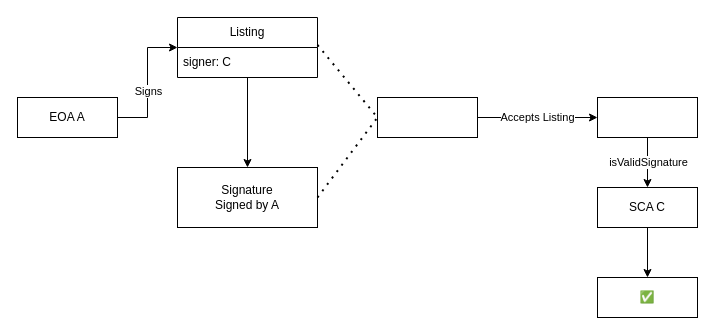
This 715x335 diagram has some shape labels left out. The centre of each missing label's shape, as x and y in pixels:
Account B: pixel 427 117
Rentals: pixel 647 117
